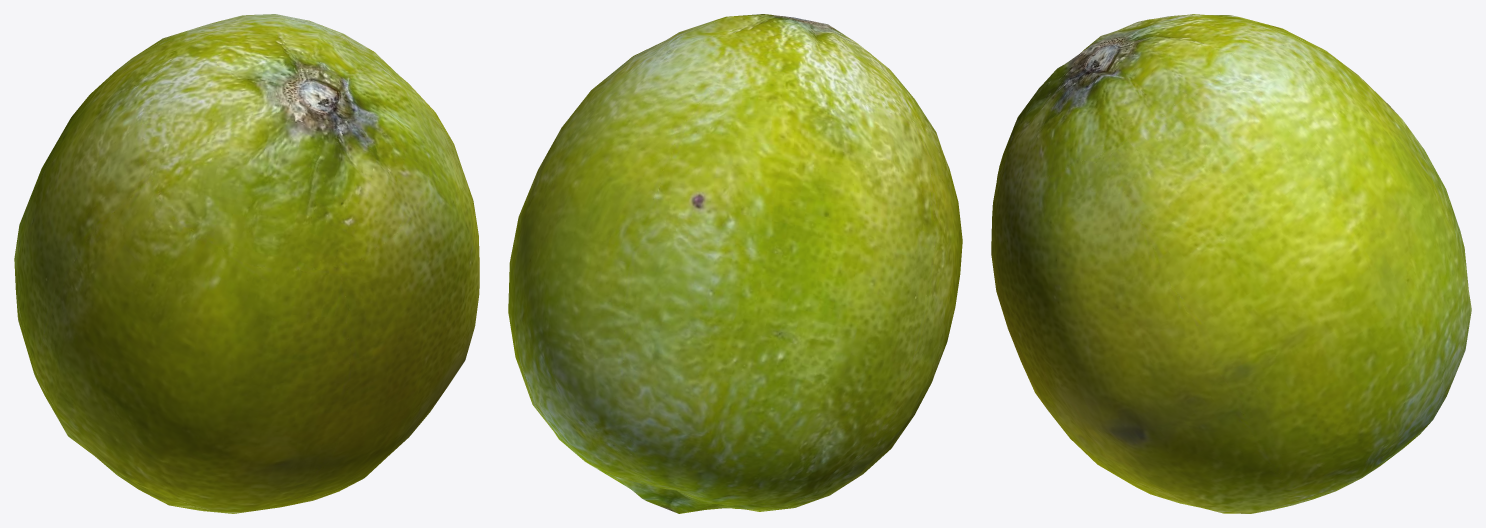
3 renders of one model, left to right at view 1: azimuth 30°, elevation 25°; view 2: azimuth 150°, elevation 25°; view 3: azimuth 270°, elevation 25°, orthographic. The views are drawn at different scales.
Visible parts, largest first — view 1: green_orange; view 2: green_orange; view 3: green_orange.
Boxes of the visible parts, box(x1,y1,x2,y2) form: green_orange: box(14, 14, 479, 513); green_orange: box(508, 14, 962, 513); green_orange: box(991, 14, 1471, 513).
Size of the model in its own units: 0.0607 by 0.0642 by 0.0676.
Materials: 1 (1 with a texture image).
